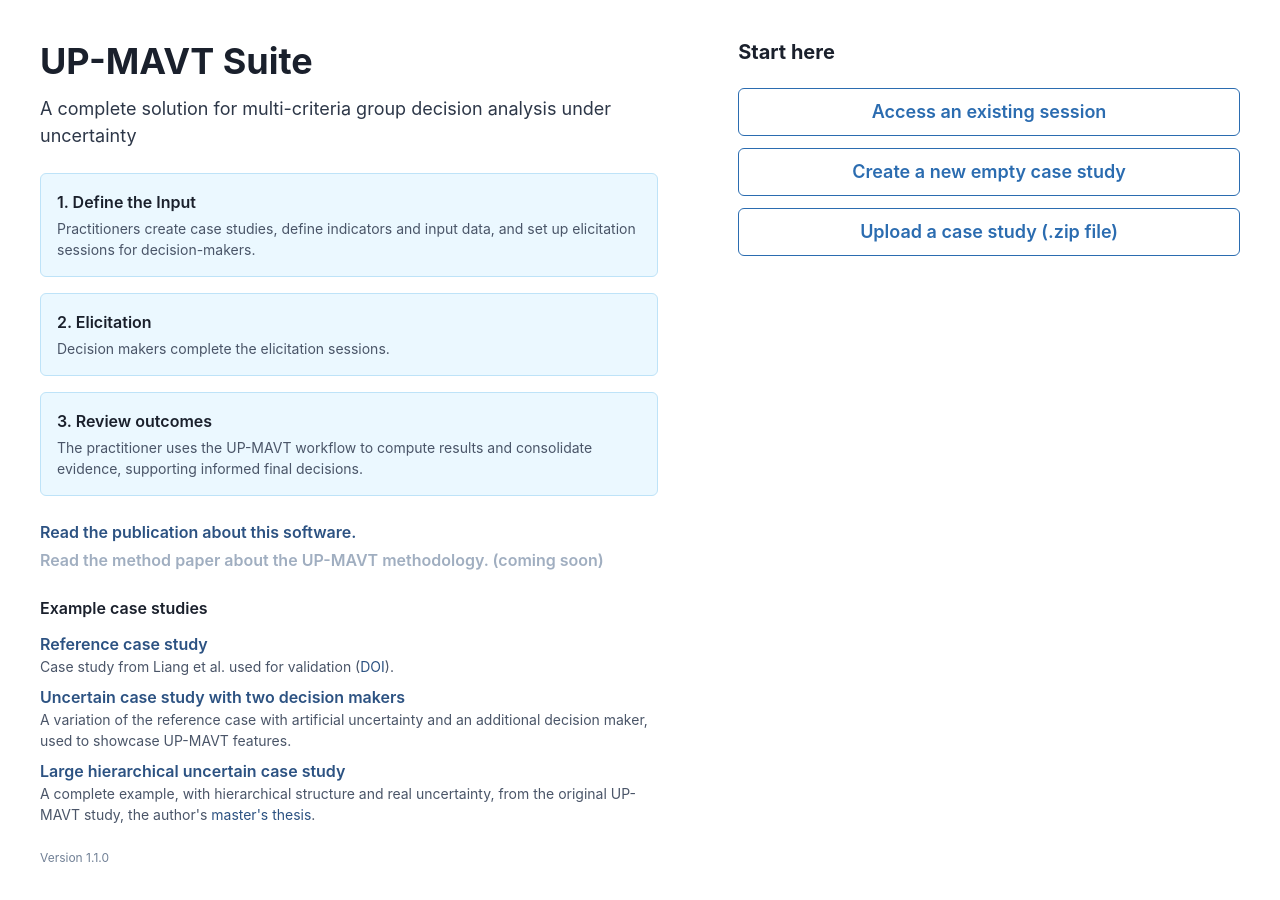
Test: LoginPage – access existing session › shows an error toast when trying to access with an empty code
Click the button "Access an existing session" at (989, 112), box [738, 88, 1240, 136]
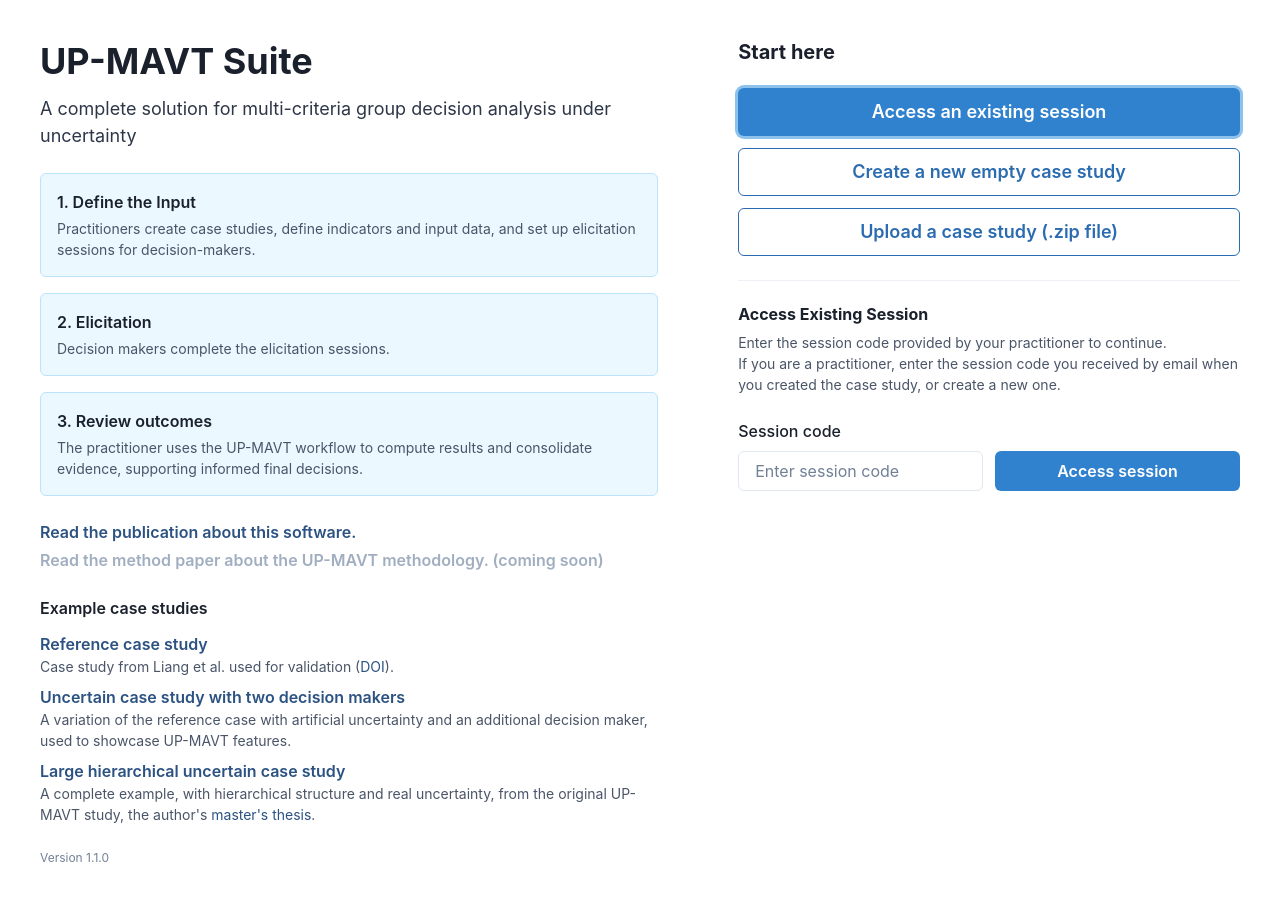
Click the button "Access session" at (1118, 471), box [995, 451, 1240, 491]
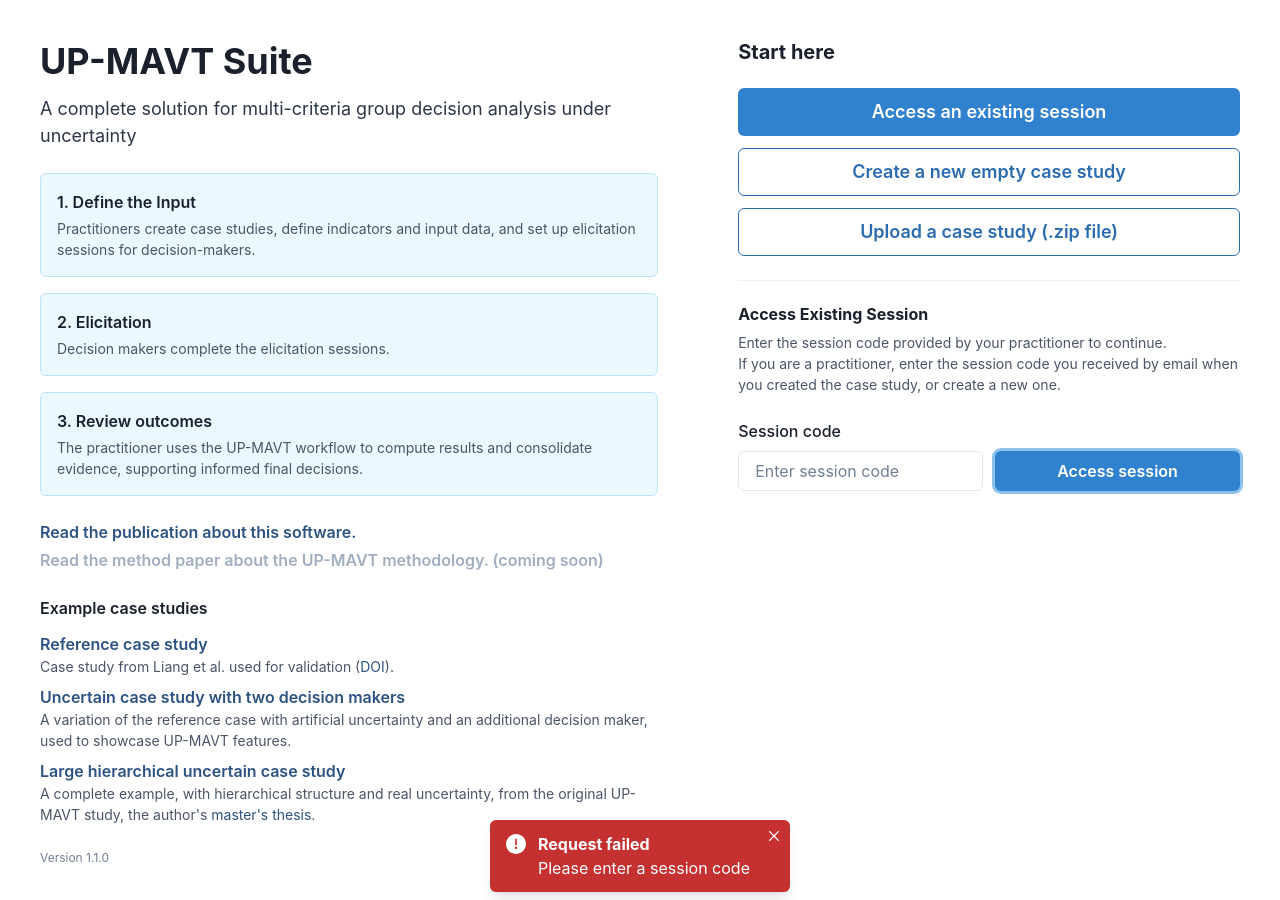
Expected: the text "Please enter a session code" is shown, [538, 856, 758, 880]
